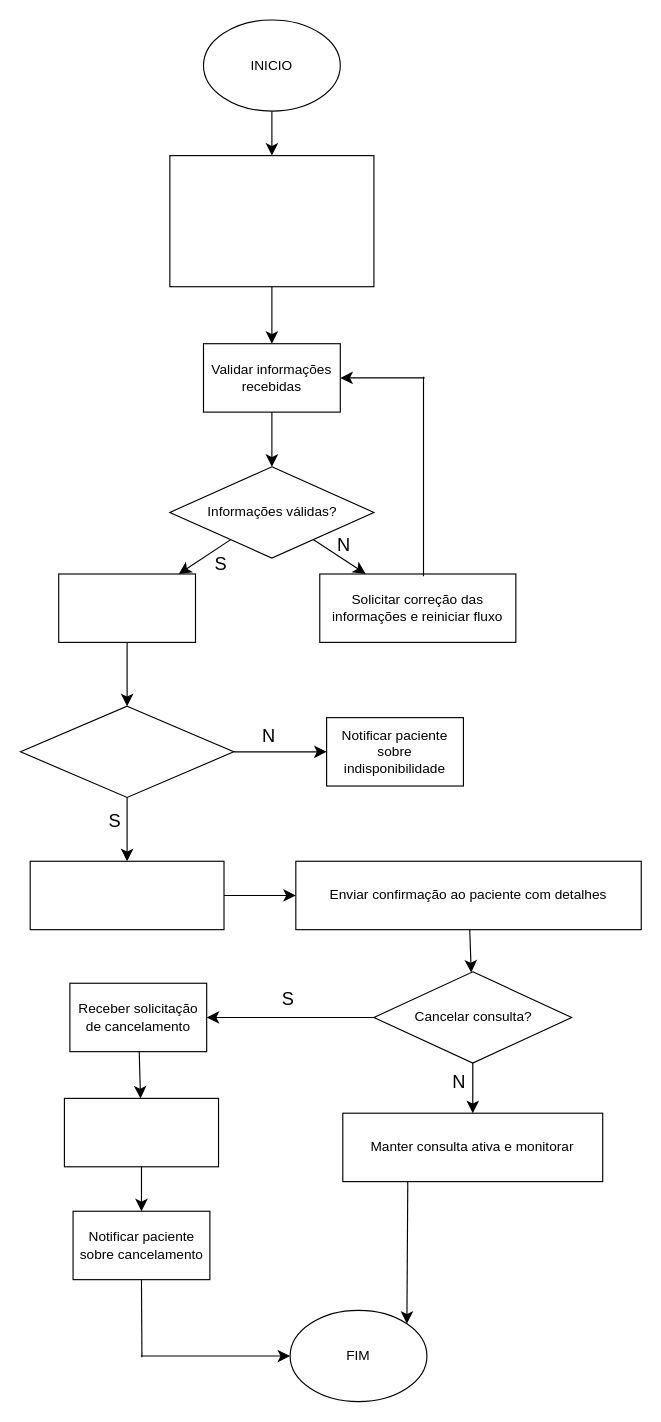
The diagram is 661 pixels wide and 1422 high, and some of its shapes have lost their labels. The shapes that lost their labels are listed below. From the top down, each one's centre as x and y in pixels, then its label:
pixel 271 220: Receber solicitação de agendamento com dados do paciente, médico e horário
pixel 127 607: Verificar disponibilidade do médico
pixel 126 751: MÉDICO DISPONIVEL ?
pixel 126 895: Criar registro da consulta e salvar na lista
pixel 141 1132: Remover consulta da lista e atualizar status
